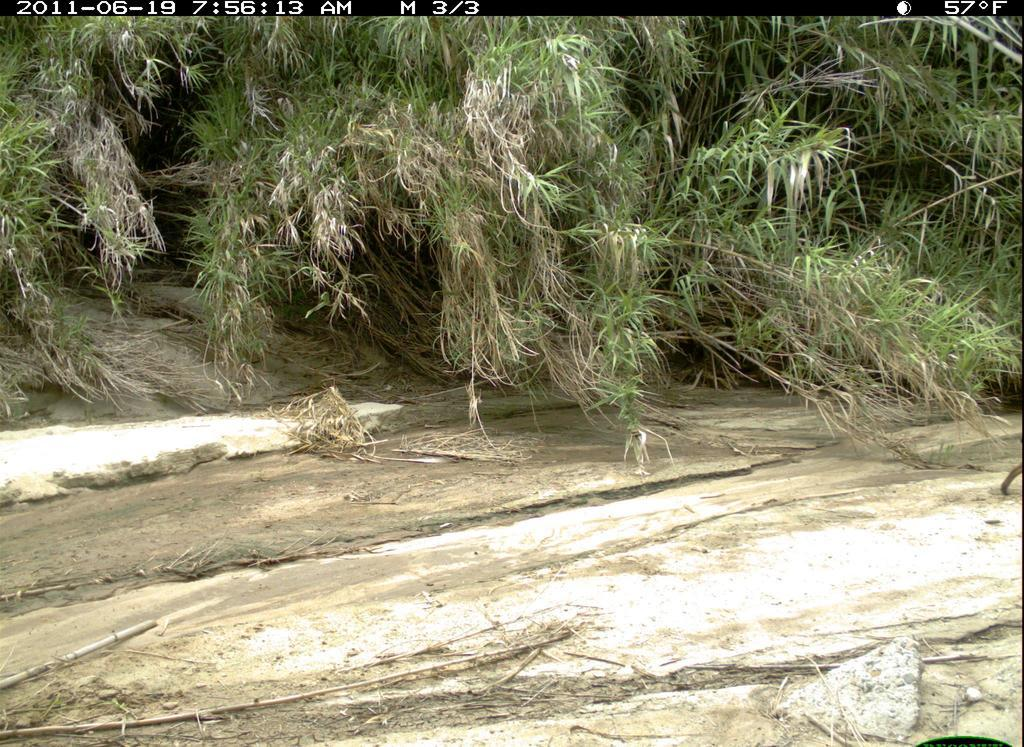bobcat: (998, 425, 1023, 496)
